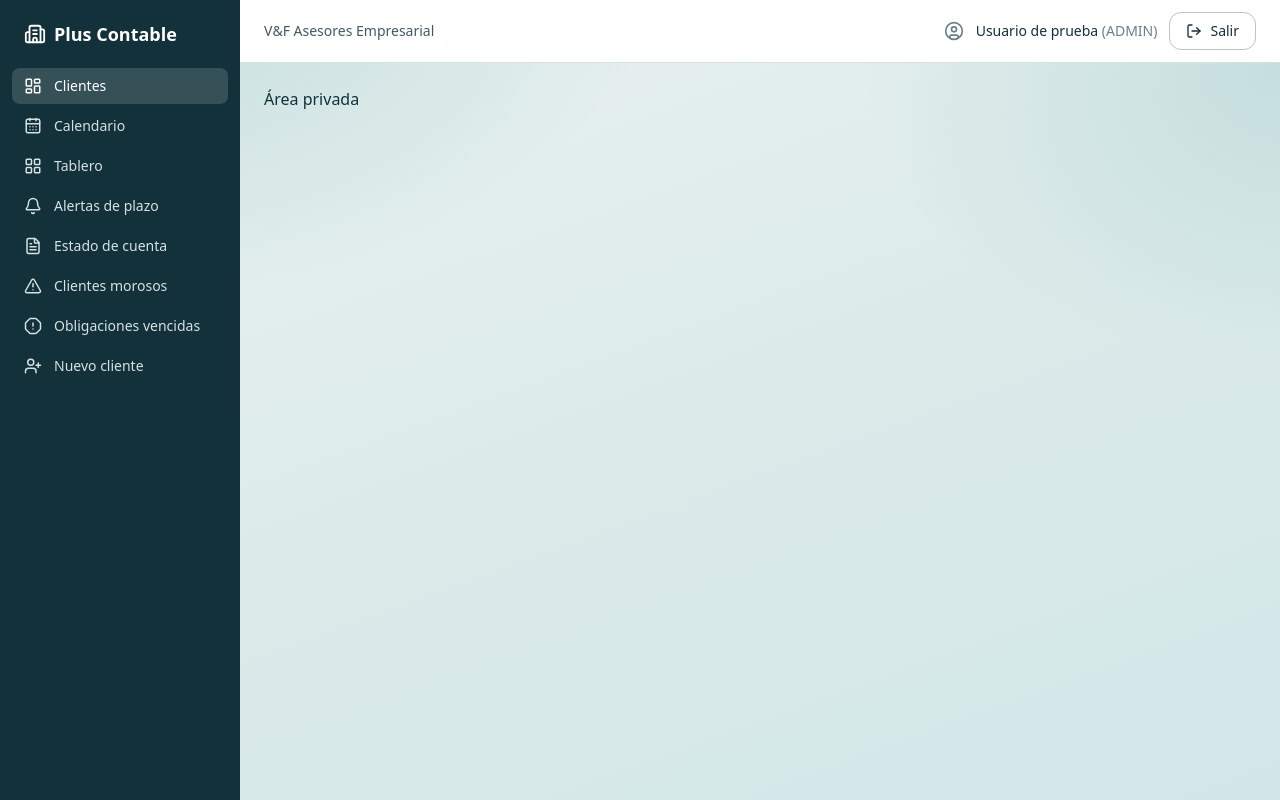
it: HU-36: sesión y login › cierra sesión y vuelve a la pantalla de acceso
The image size is (1280, 800).
Click the button "Salir".
click(1213, 31)  # box [1170,12,1256,50]
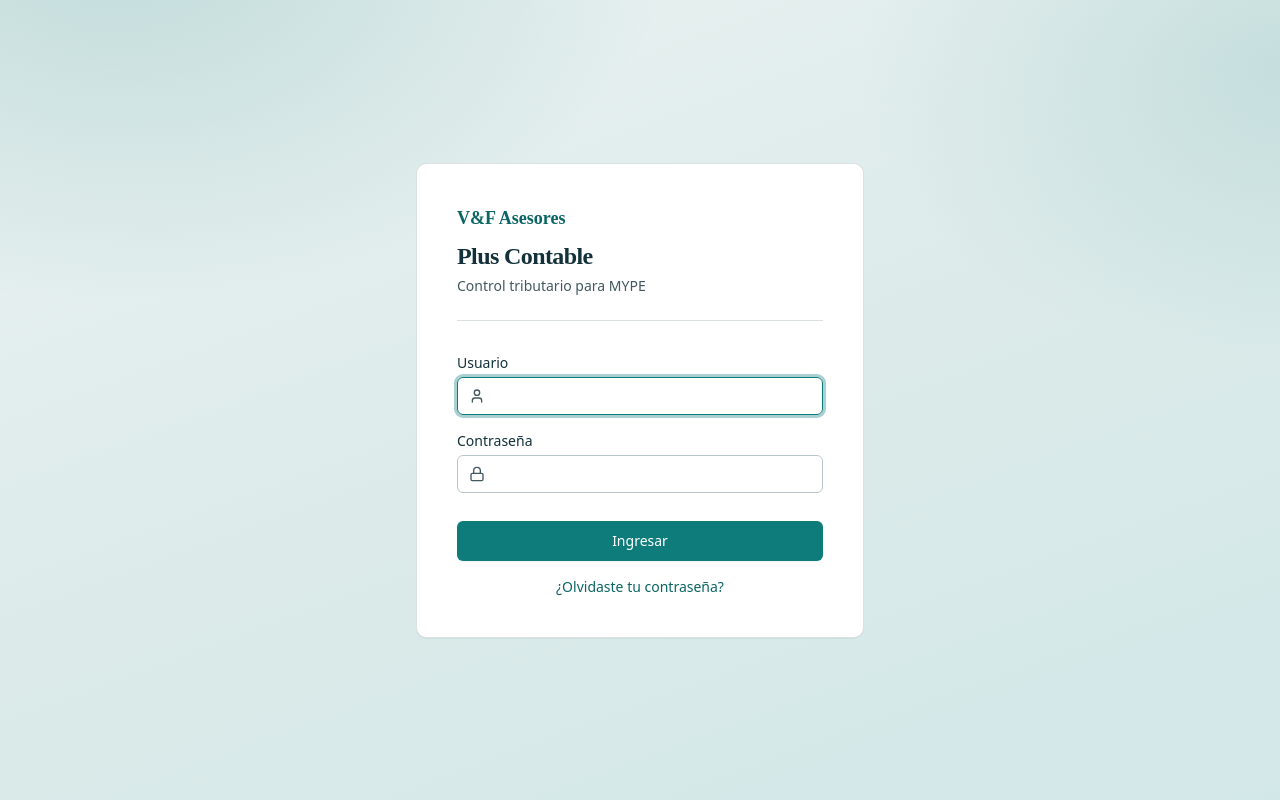
Result: the button "Ingresar" is shown at [457,520,823,560]
